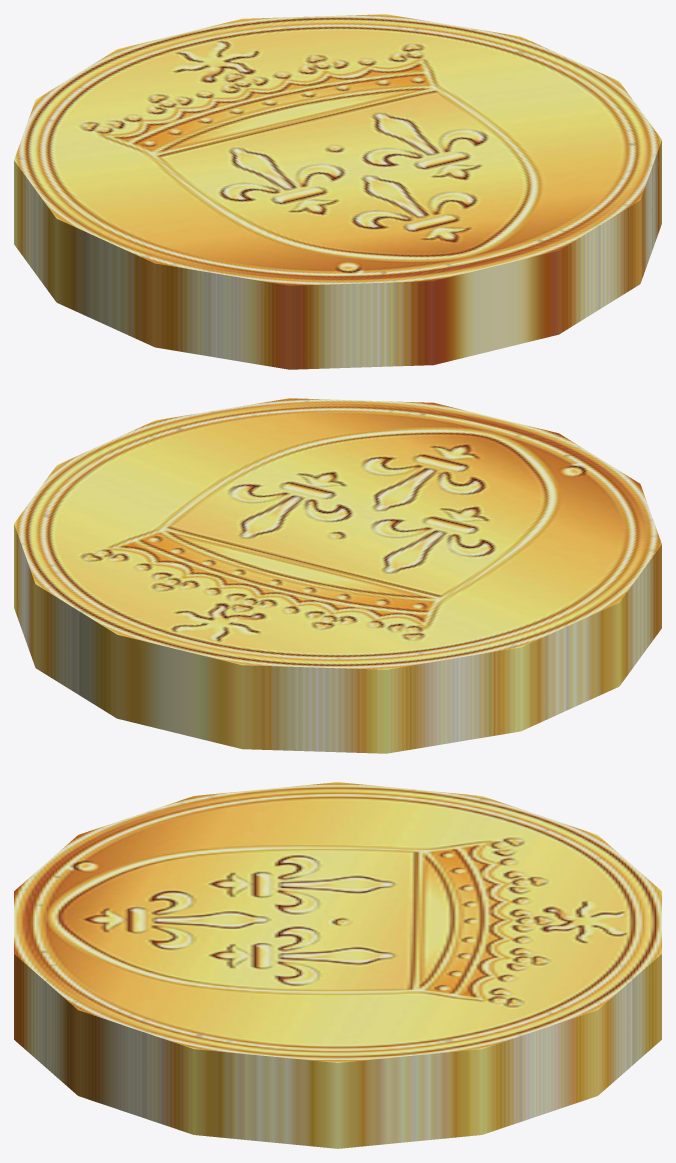
Rendered from jinbi.FBX.
The picture shows the model from 3 angles, top to bottom: view 1: azimuth 30°, elevation 25°; view 2: azimuth 150°, elevation 25°; view 3: azimuth 270°, elevation 25°; orthographic projection. The views are drawn at different scales.
Parts seen in each view (by area): view 1: Cylinder001; view 2: Cylinder001; view 3: Cylinder001.
Boxes of the visible parts, <box> form: Cylinder001: <box>14,14,661,369</box>; Cylinder001: <box>14,398,661,753</box>; Cylinder001: <box>14,782,661,1148</box>.
Size of the model in its own units: 42.68 by 6.09 by 41.61.
1 material, 1 textured.
